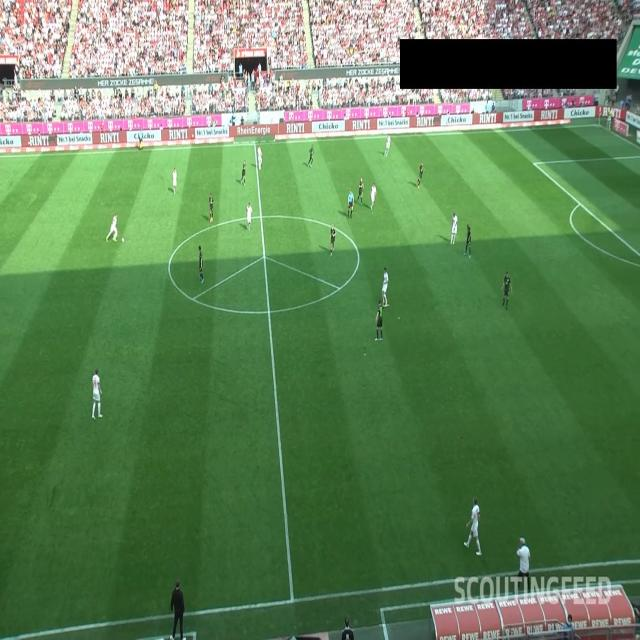ball: (121, 236, 125, 244)
